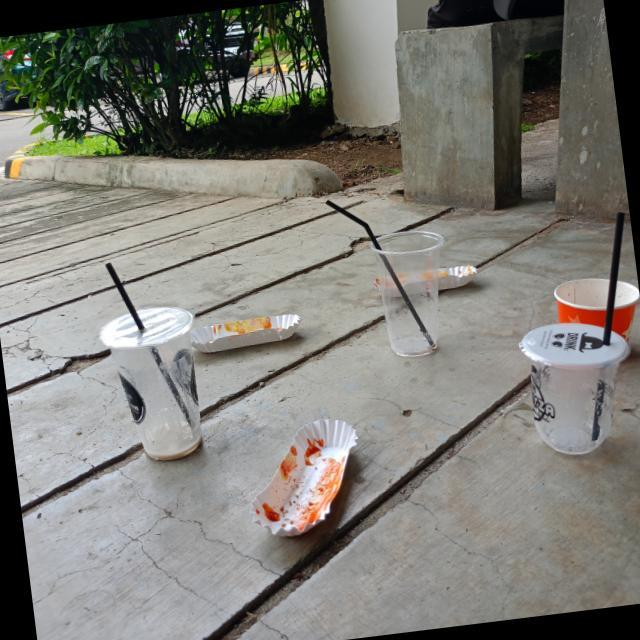recyclable waste: (225, 400, 394, 566), (85, 288, 218, 488), (504, 307, 640, 475), (348, 212, 471, 374), (350, 238, 488, 314), (185, 292, 310, 366), (536, 257, 640, 332)
